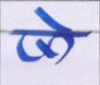e_matra: (35, 7, 75, 32)
